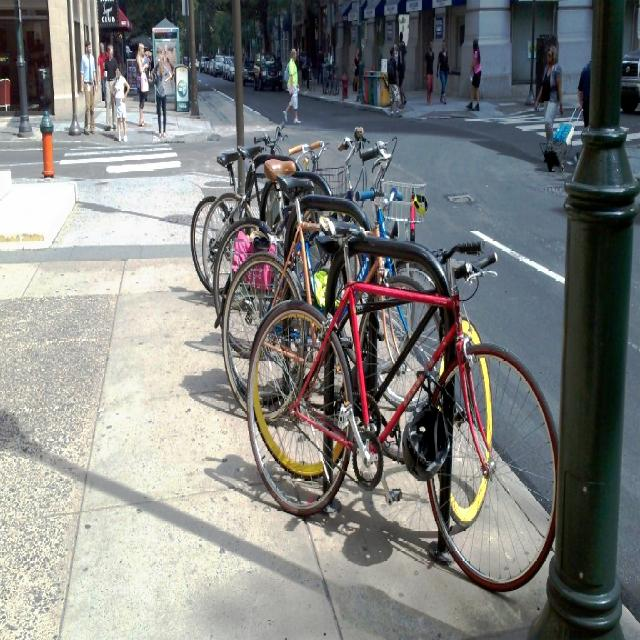bike: (242, 213, 558, 592), (251, 239, 495, 525), (221, 174, 446, 424)
